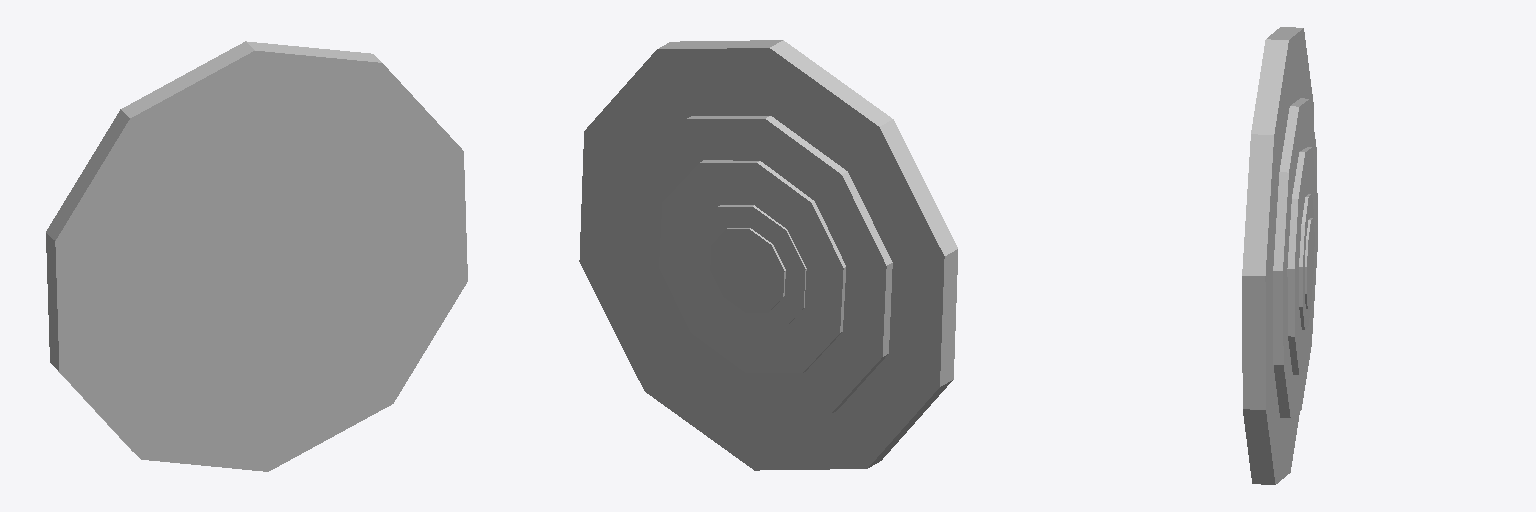
File: target.obj
The picture shows the model from 3 angles: view 1: azimuth 30°, elevation 25°; view 2: azimuth 150°, elevation 25°; view 3: azimuth 270°, elevation 25°; orthographic projection.
Visible parts, largest first — view 1: group[number redacted]; view 2: group[number redacted]; view 3: group[number redacted].
Boxes of the visible parts, x1=… form: group[number redacted]: x1=46, y1=41, x2=467, y2=471; group[number redacted]: x1=579, y1=40, x2=957, y2=470; group[number redacted]: x1=1242, y1=27, x2=1317, y2=484.
Size of the model in its own units: 0.0961 by 0.1 by 0.0161.